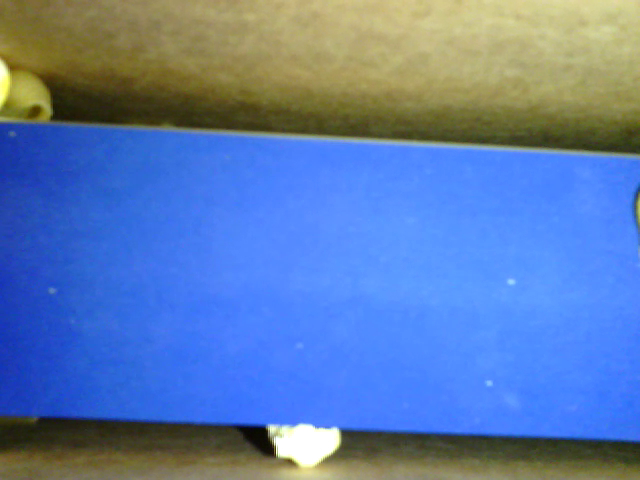shell: (2, 70, 60, 126)
